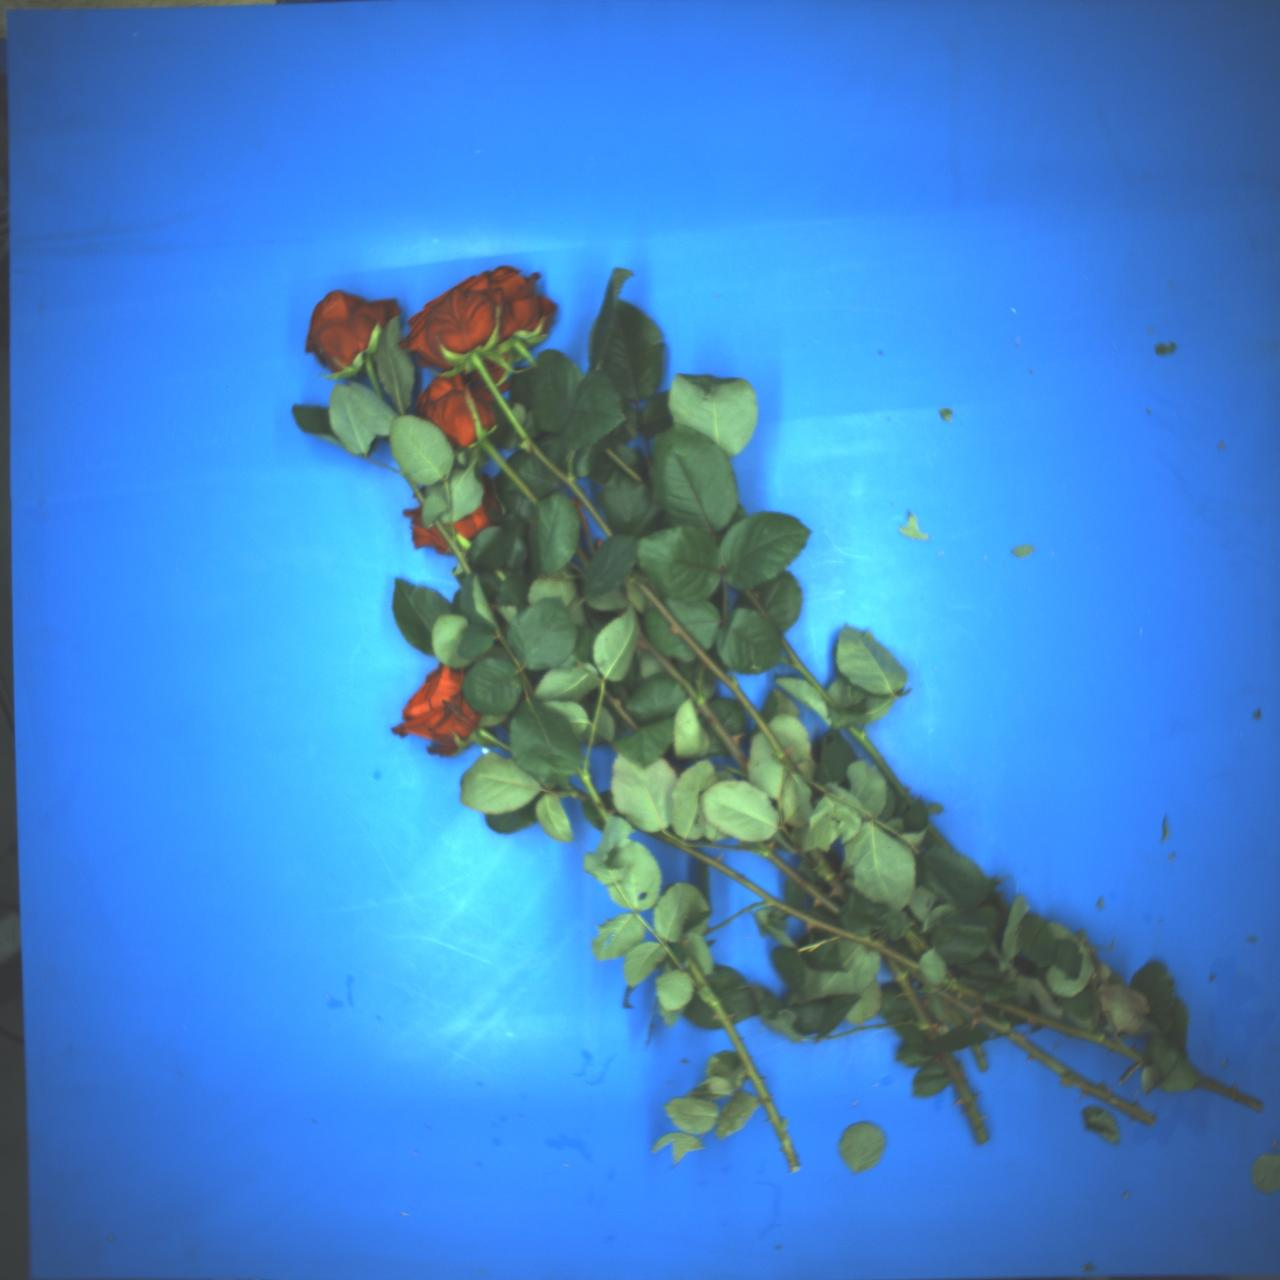Stem: (647, 825, 922, 980), (635, 574, 806, 782), (463, 352, 614, 544), (681, 954, 806, 1173), (631, 628, 755, 774), (1003, 1029, 1156, 1130), (989, 995, 1142, 1061), (755, 840, 842, 917), (933, 1050, 996, 1146), (846, 722, 913, 806), (886, 955, 940, 1041), (776, 639, 837, 708), (478, 440, 540, 505), (940, 990, 1007, 1035), (433, 518, 475, 576), (809, 846, 851, 901), (1198, 1077, 1264, 1111), (578, 767, 612, 823), (604, 695, 642, 734), (605, 448, 642, 484), (744, 587, 772, 621), (477, 729, 513, 754), (942, 976, 979, 1000), (366, 359, 384, 402), (512, 341, 538, 368), (406, 474, 425, 505), (565, 783, 591, 805), (574, 545, 595, 568), (519, 670, 537, 697), (972, 1043, 988, 1071), (496, 570, 506, 581)
flower: (389, 268, 515, 384), (290, 264, 406, 381), (389, 654, 499, 770), (463, 248, 566, 359), (408, 363, 501, 457), (396, 504, 450, 564), (450, 493, 504, 543), (474, 393, 497, 433)
